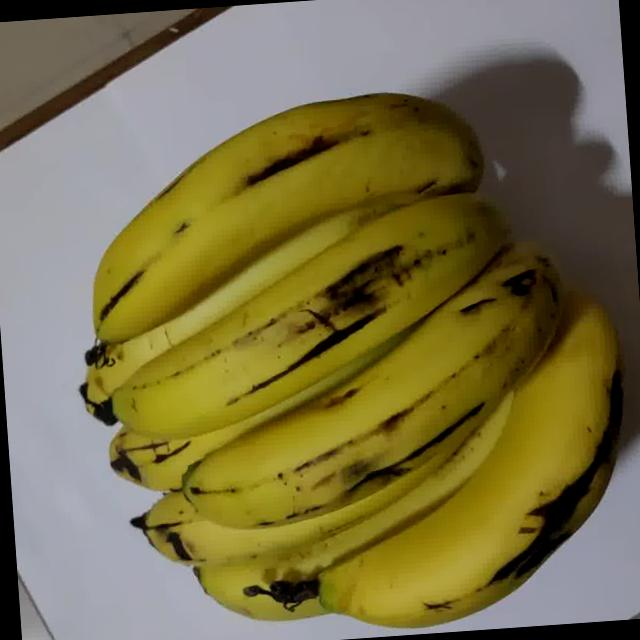banana_pacche: (12, 14, 640, 640)
